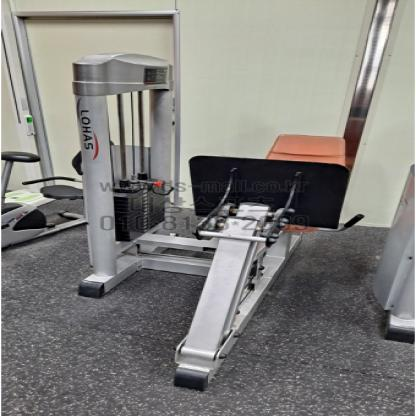leg press: (51, 30, 416, 415)
